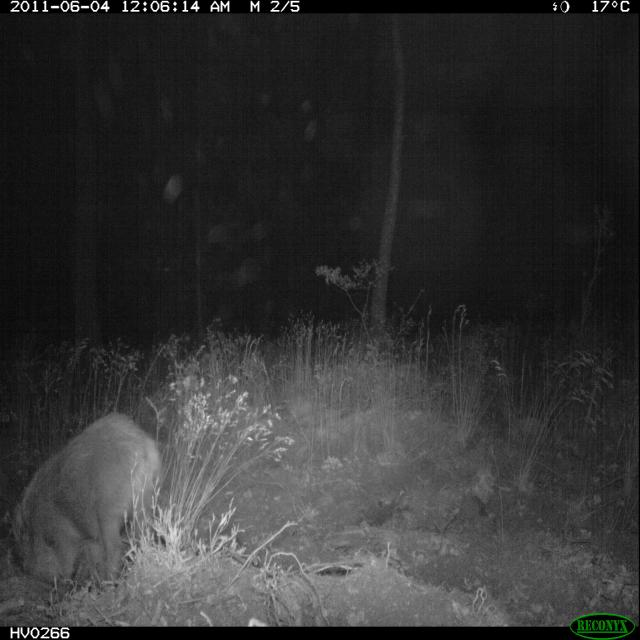boar: (0, 372, 186, 606)
